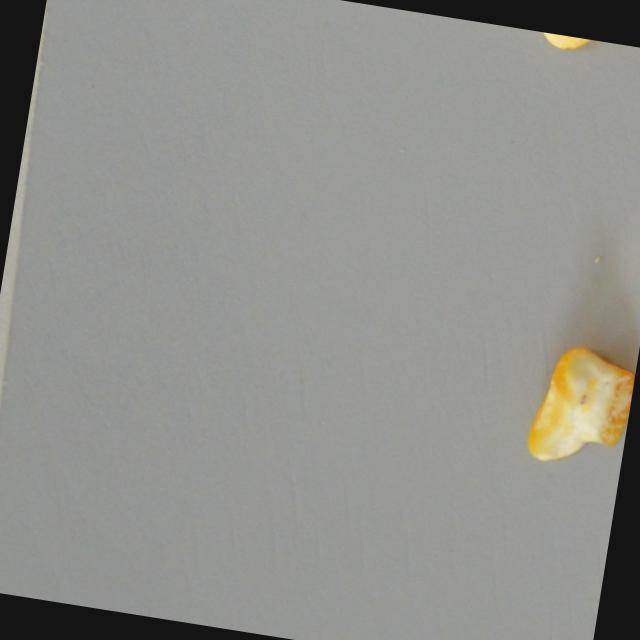dañado: (525, 29, 640, 61)
punto_negro: (523, 340, 638, 472)
